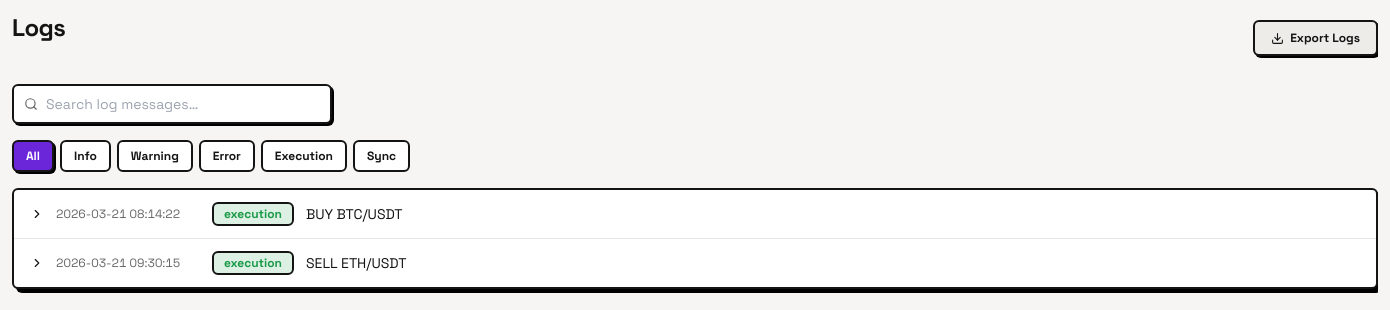
Test: LogsPage › data rendered state › filters logs by search term
Type "BTC" into the field with placeholder "Search log messages…" at x=172, y=104, box [12,84,332,124]
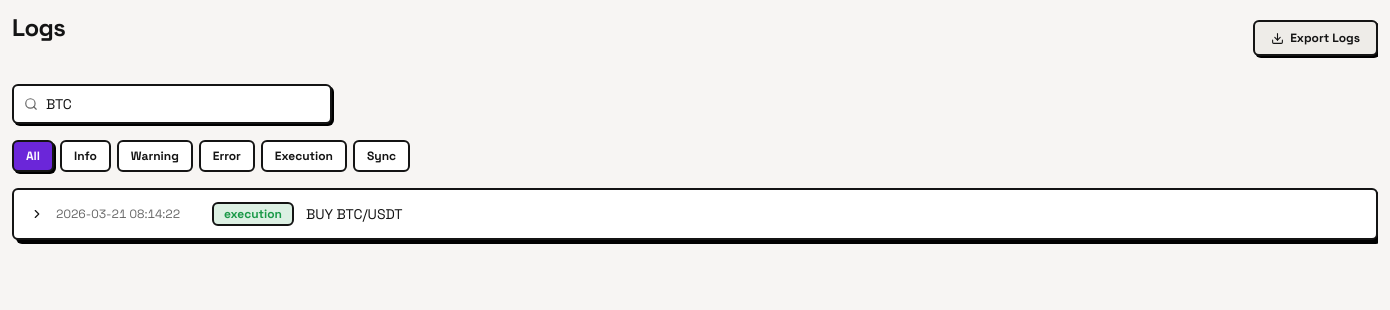
expect the text "BUY BTC/USDT" is shown: met, box [306,204,402,224]
expect the button "SELL ETH/USDT" is gone: met
